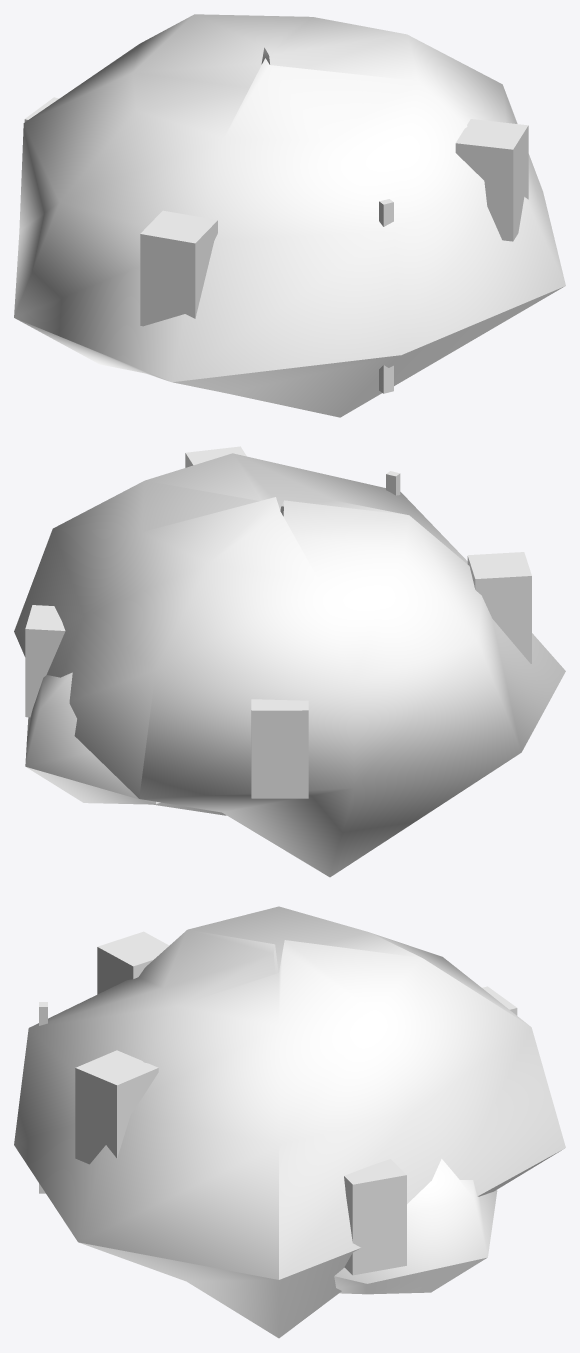
The model's file is ore_rock.glb.
3 renders of one model, top to bottom at view 1: azimuth 30°, elevation 25°; view 2: azimuth 150°, elevation 25°; view 3: azimuth 270°, elevation 25°, orthographic. The views are drawn at different scales.
Parts seen in each view (by area): view 1: OreRock; view 2: OreRock; view 3: OreRock.
Boxes of the visible parts, box(x1,y1,x2,y2) form: OreRock: box(14, 14, 565, 417); OreRock: box(14, 446, 565, 877); OreRock: box(14, 906, 565, 1338).
Size of the model in its own units: 2.05 by 1.22 by 1.88.
1 material, 1 textured.
